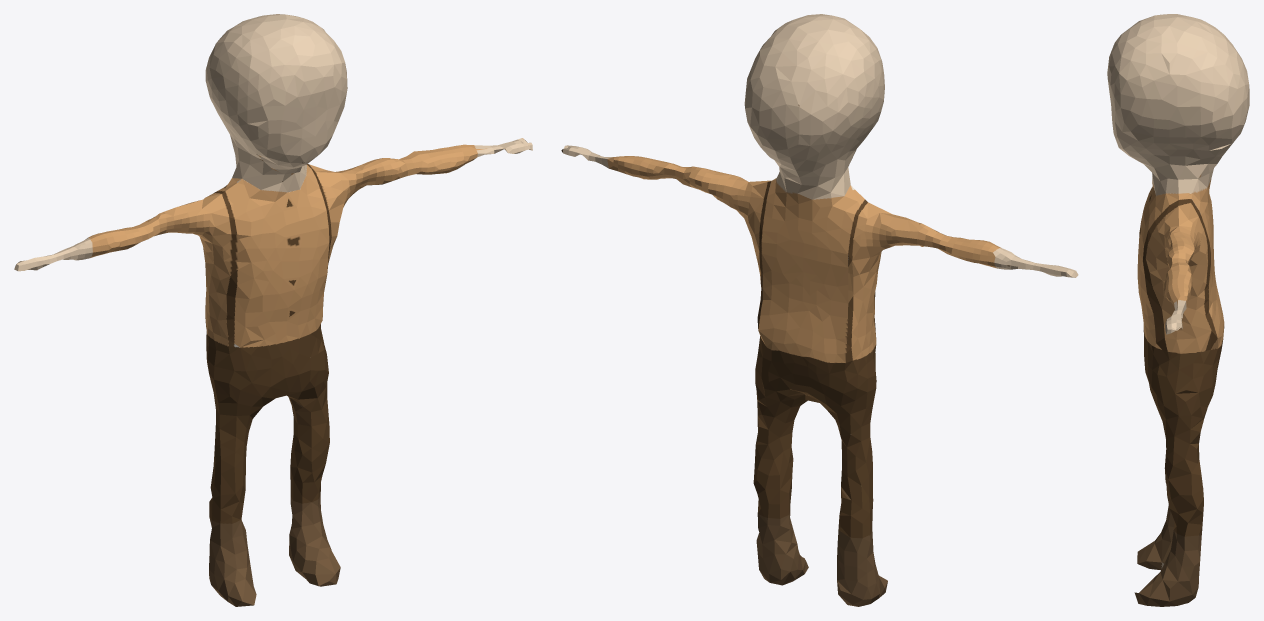
File: boy_3.fbx
The picture shows the model from 3 angles, left to right: view 1: azimuth 30°, elevation 25°; view 2: azimuth 150°, elevation 25°; view 3: azimuth 270°, elevation 25°; orthographic projection.
Parts seen in each view (by area): view 1: boy_.003; view 2: boy_.003; view 3: boy_.003.
Part boxes in pixels (box(x1,y1,x2,y2)): boy_.003: box(14, 14, 532, 606); boy_.003: box(561, 14, 1078, 606); boy_.003: box(1107, 14, 1249, 606).
Size of the model in its own units: 328 by 346 by 78.8.
Materials: 1 (1 with a texture image).
